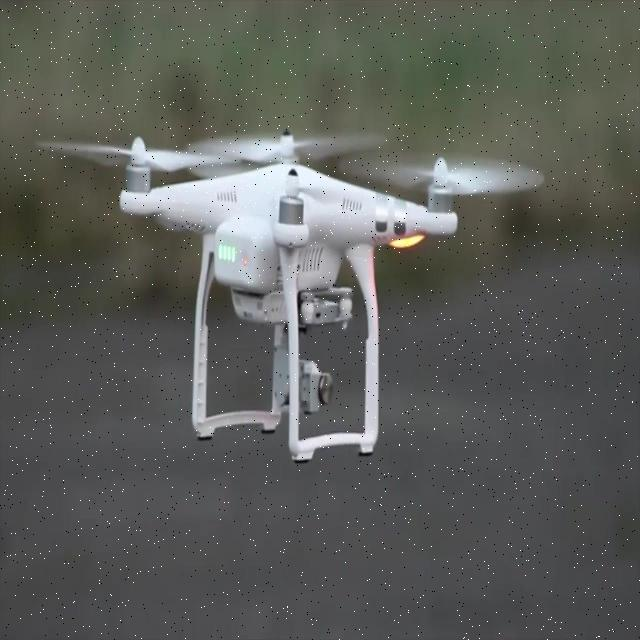UAV: (38, 129, 544, 467)
